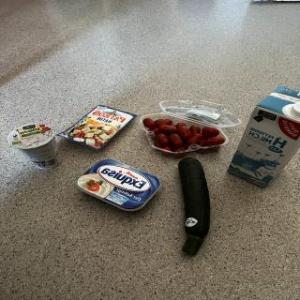tomato: (201, 124, 221, 138), (203, 136, 225, 148), (159, 123, 179, 135), (178, 124, 192, 140), (169, 132, 183, 148), (142, 117, 154, 131), (155, 133, 169, 145), (189, 125, 201, 137)
zucchini: (163, 154, 217, 256)
